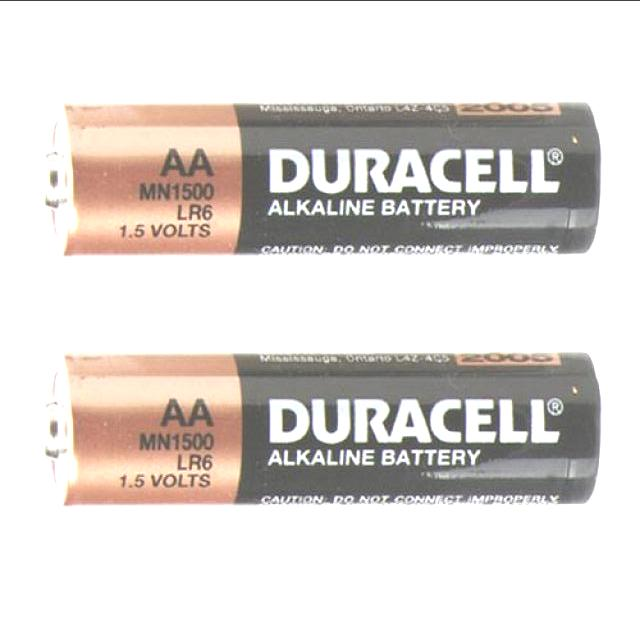AA: (39, 92, 606, 260), (35, 345, 608, 510)
